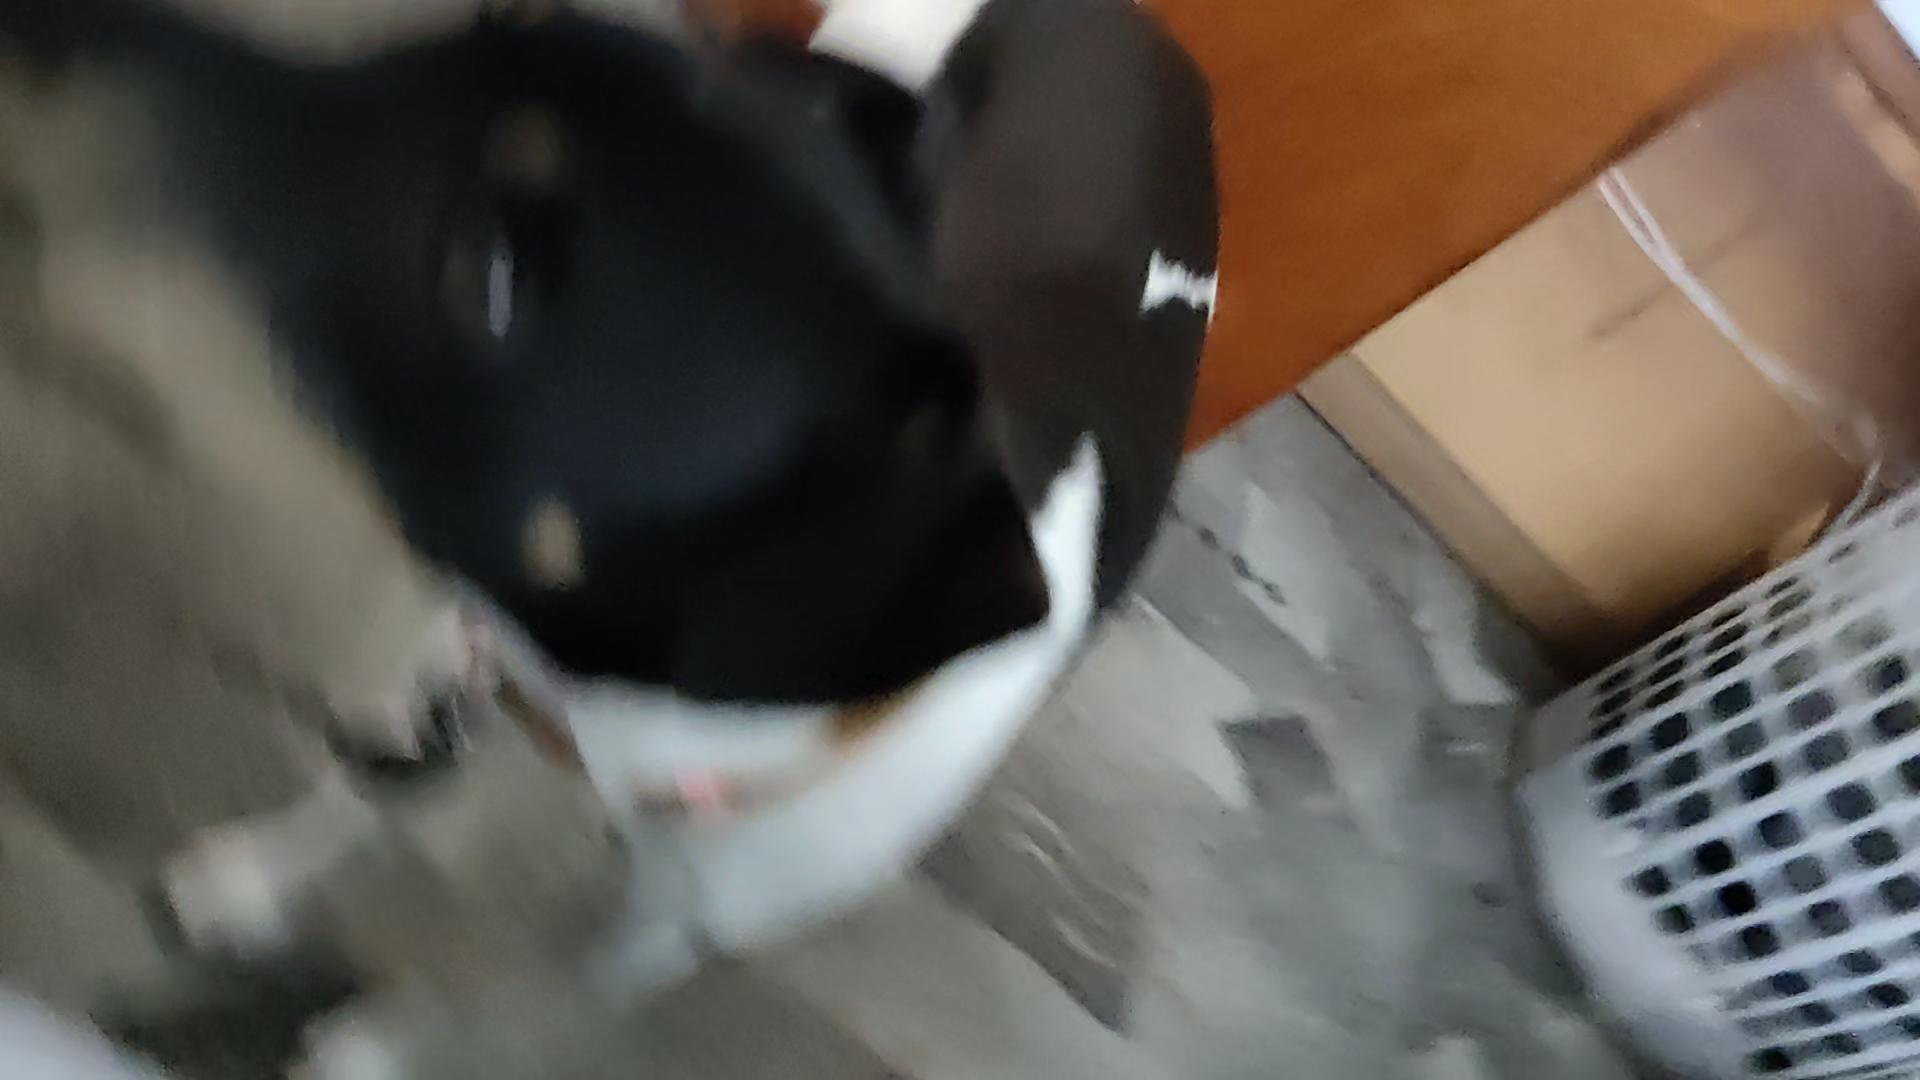Dog: (0, 0, 1238, 1079)
